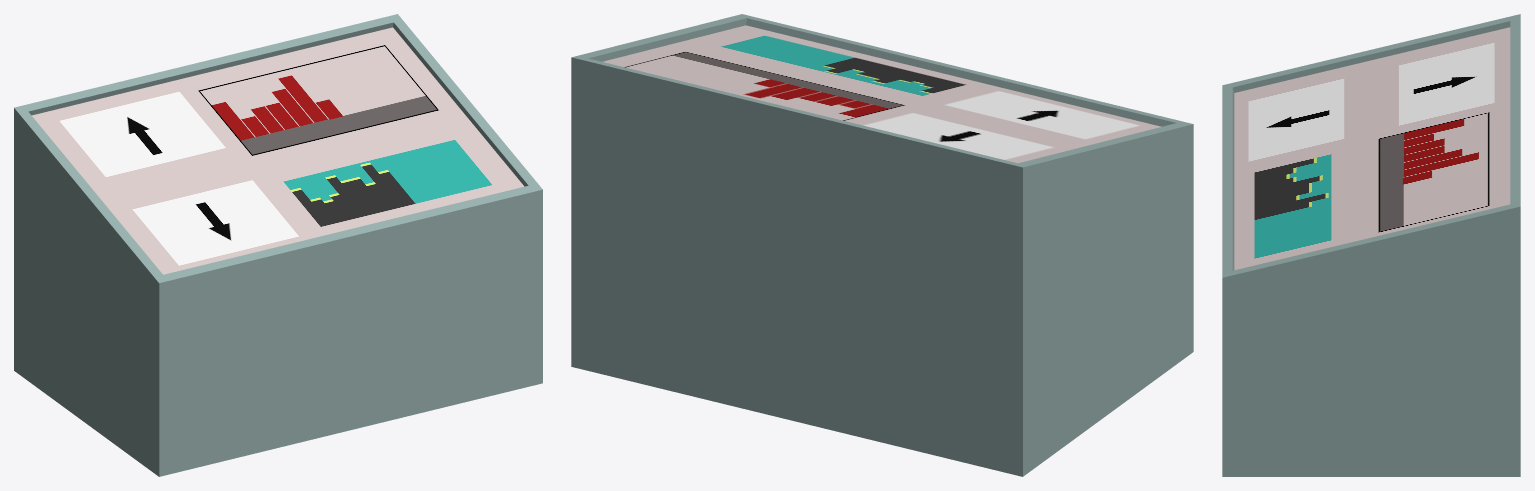
Rendered from RunDiagnostics.fbx.
3 renders of one model, left to right at view 1: azimuth 30°, elevation 25°; view 2: azimuth 150°, elevation 25°; view 3: azimuth 270°, elevation 25°, orthographic. The views are drawn at different scales.
Parts seen in each view (by area): view 1: Cube; view 2: Cube; view 3: Cube.
Boxes of the visible parts, box(x1,y1,x2,y2) form: Cube: box(14, 14, 542, 476); Cube: box(571, 14, 1193, 476); Cube: box(1222, 14, 1520, 476).
Bounding box in the file's own units: 288 × 189 × 189.
